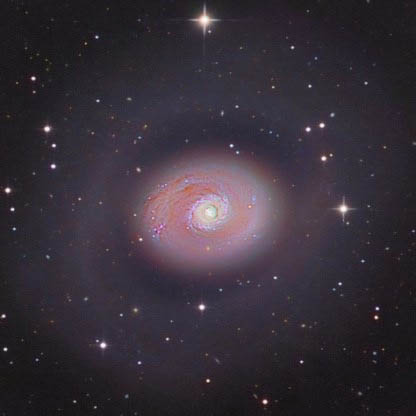Messier 94: (38, 65, 374, 381)
